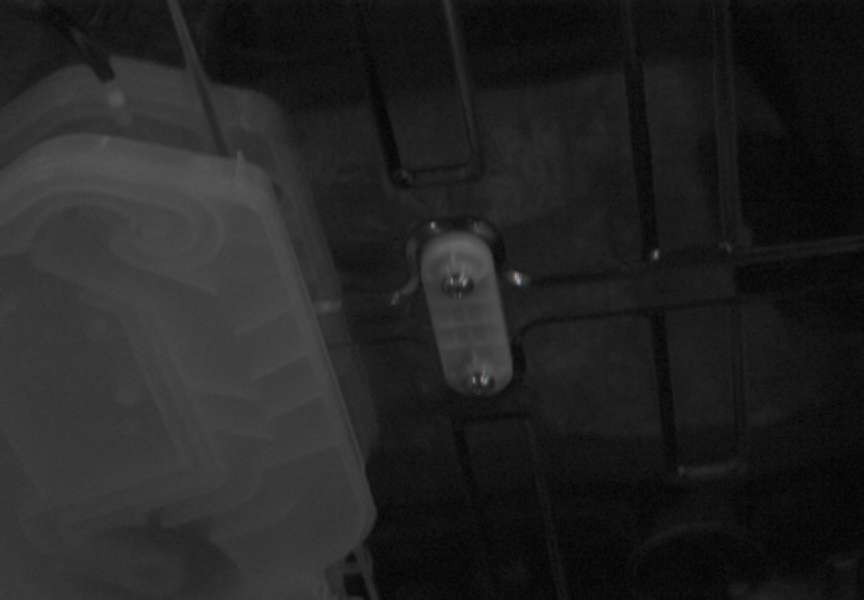screw: (441, 272, 474, 299), (466, 369, 495, 396)
